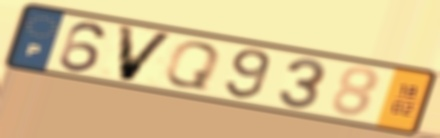3: (276, 56, 327, 110)
6: (57, 20, 108, 74)
8: (329, 65, 383, 122)
9: (224, 48, 273, 101)
Q: (160, 40, 224, 92)
V: (115, 23, 178, 84)
